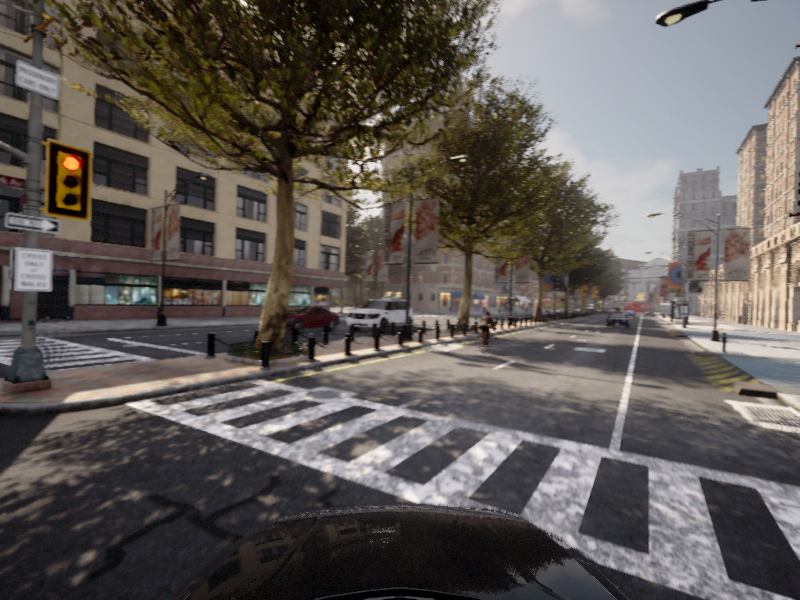vehicle: (342, 297, 417, 335), (265, 305, 345, 333), (471, 311, 499, 353), (605, 313, 630, 328)
